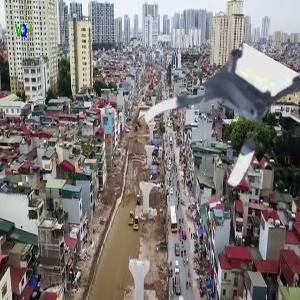drone: (150, 40, 291, 181)
